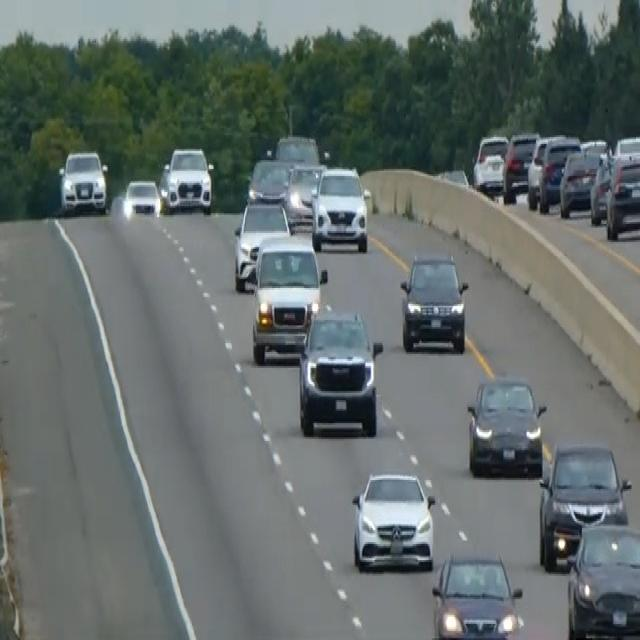car: (537, 439, 631, 571), (297, 304, 383, 437), (249, 233, 327, 364), (350, 468, 436, 572), (565, 519, 639, 638), (466, 372, 546, 478), (430, 550, 524, 638), (232, 196, 290, 292), (310, 164, 369, 252), (163, 144, 213, 213), (539, 134, 581, 212), (605, 149, 639, 240), (558, 147, 601, 217), (284, 160, 326, 231), (502, 130, 539, 201), (472, 132, 509, 194), (247, 154, 293, 202), (589, 151, 616, 224), (526, 133, 550, 208), (122, 176, 161, 220), (275, 132, 319, 164), (613, 133, 639, 162)
jeep: (398, 249, 469, 354), (57, 146, 109, 215)
